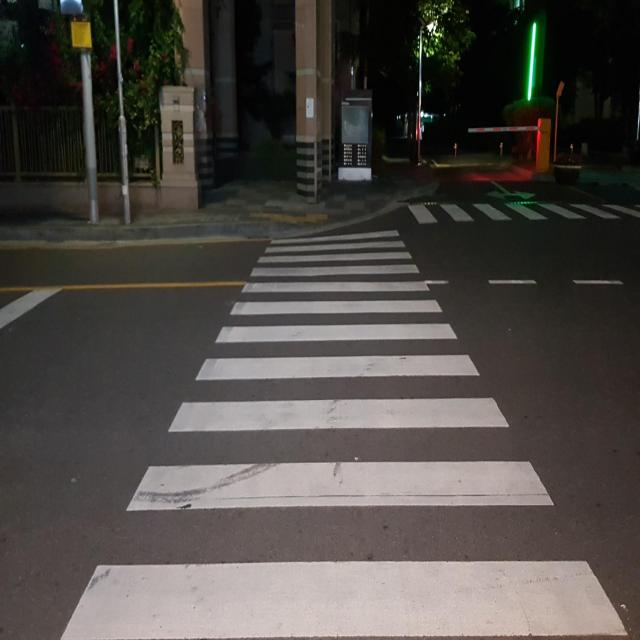횡단보도: (59, 230, 631, 639), (403, 196, 640, 228)
